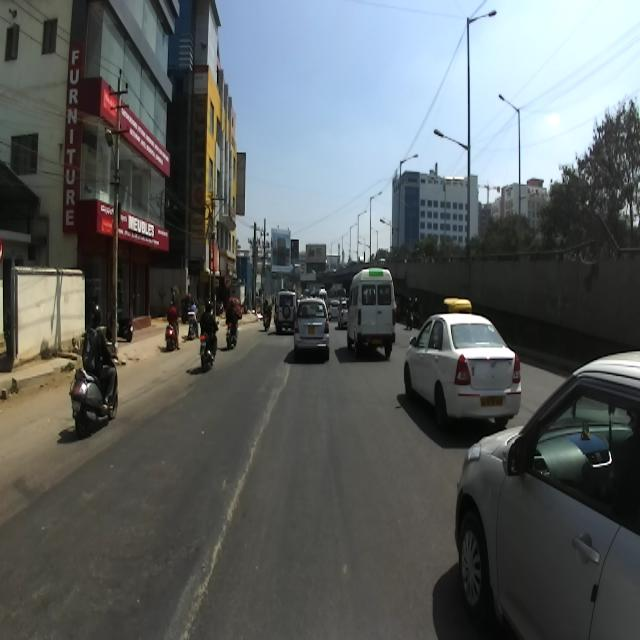car ahead at: (456, 354, 640, 640), (401, 306, 524, 436), (340, 260, 403, 365), (290, 288, 332, 368)
motorcycle ahead at: (66, 359, 122, 436)
